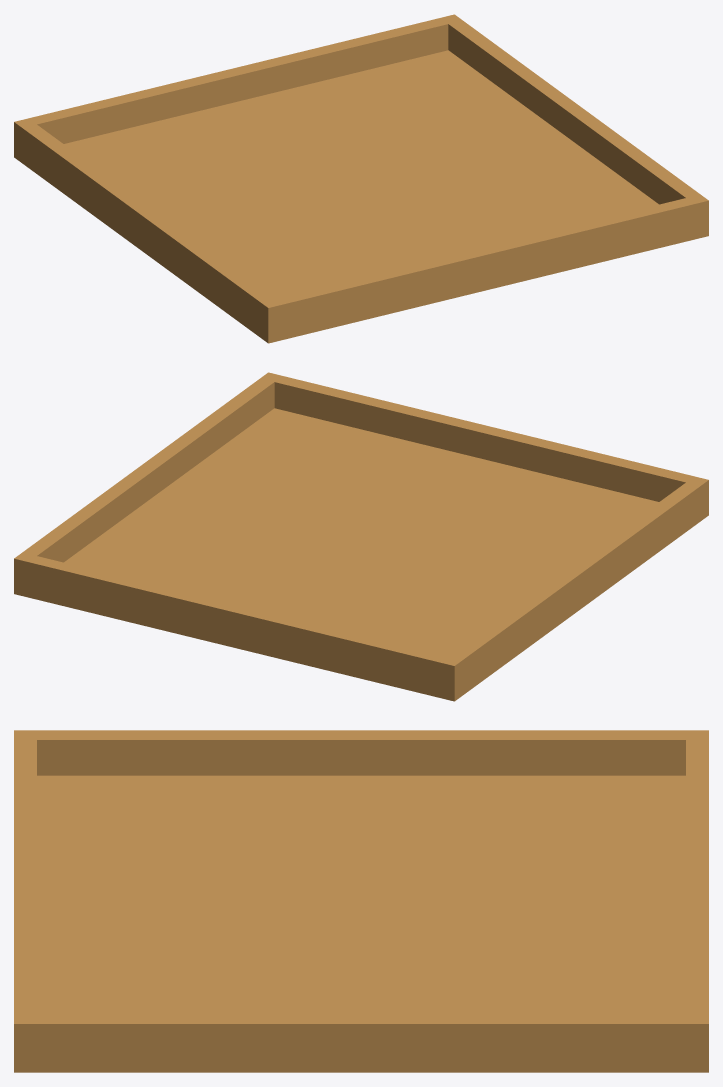
3 views of the same model, one above another, from view 1: azimuth 30°, elevation 25°; view 2: azimuth 150°, elevation 25°; view 3: azimuth 270°, elevation 25° (orthographic). The views are drawn at different scales.
Visible parts, largest first — view 1: Cube; view 2: Cube; view 3: Cube.
Part boxes in pixels (x1,y1,x2,y2): Cube: (14,14,708,343); Cube: (14,372,708,701); Cube: (14,730,708,1072).
Bounding box in the file's own units: 1300 × 100 × 1300.
